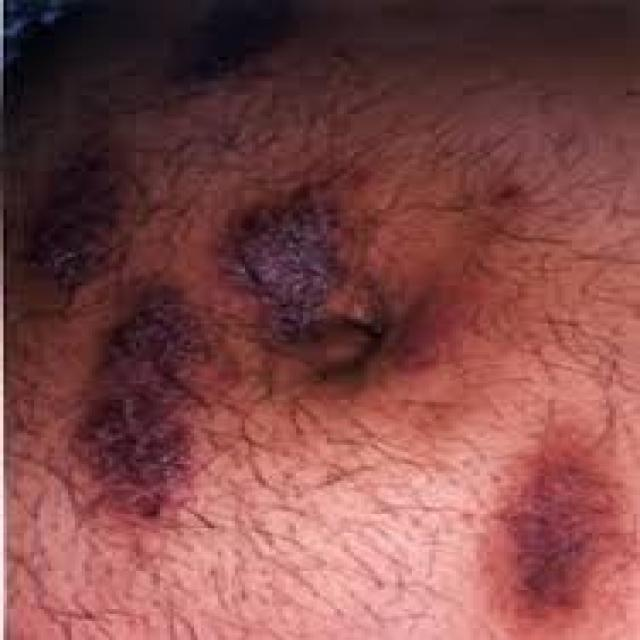Eczema: (75, 301, 207, 530), (489, 454, 629, 618), (212, 193, 363, 344), (27, 156, 119, 288)
